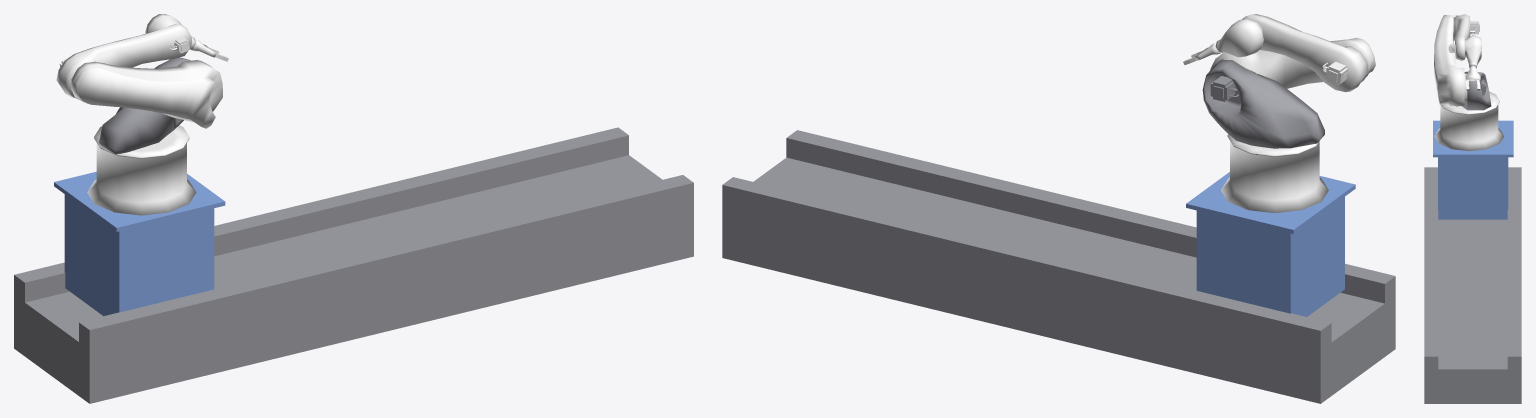
File: motoman.dae
3 views of the same model, side by side, from view 1: azimuth 30°, elevation 25°; view 2: azimuth 150°, elevation 25°; view 3: azimuth 270°, elevation 25° (orthographic). The views are drawn at different scales.
Visible parts, largest first — view 1: turret.001; view 2: turret.001; view 3: turret.001.
Boxes of the visible parts, x1,y1,x2,y2 form: turret.001: (14,14,693,403); turret.001: (722,14,1395,403); turret.001: (1424,14,1521,403).
Size of the model in its own units: 3.85 by 0.8352 by 2.03.
